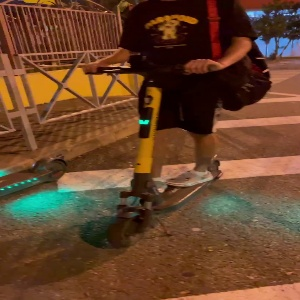human on a scooter: (80, 1, 275, 250)
